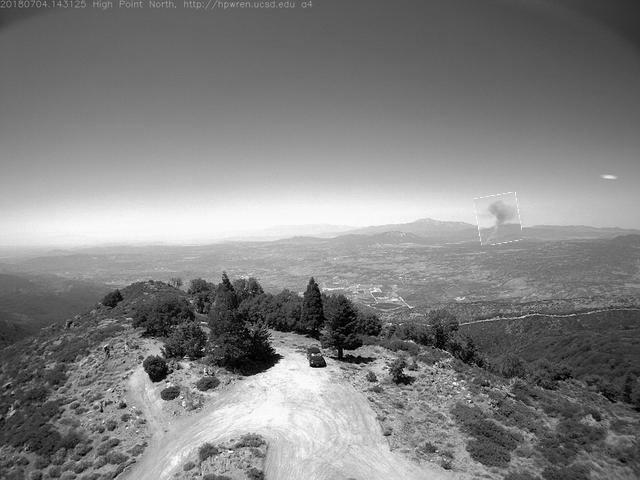smoke: (477, 195, 523, 246)
